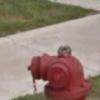a fire hydrant: (26, 45, 94, 100)
